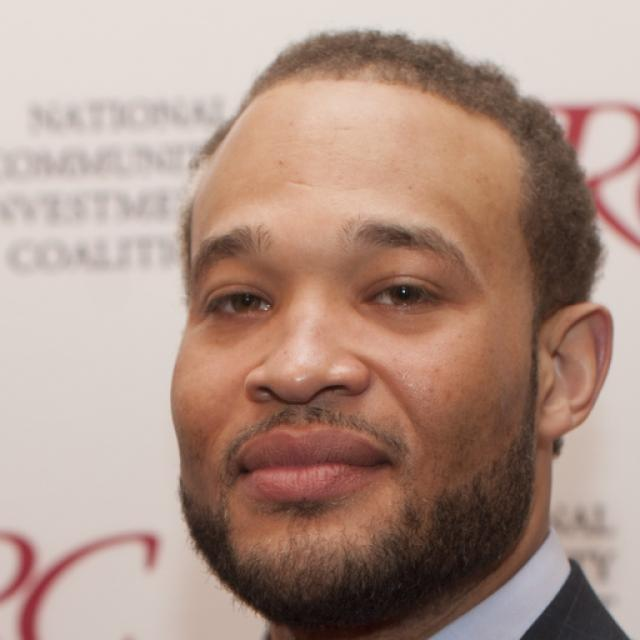Dark Circle: (362, 308, 452, 329), (209, 316, 269, 340)
